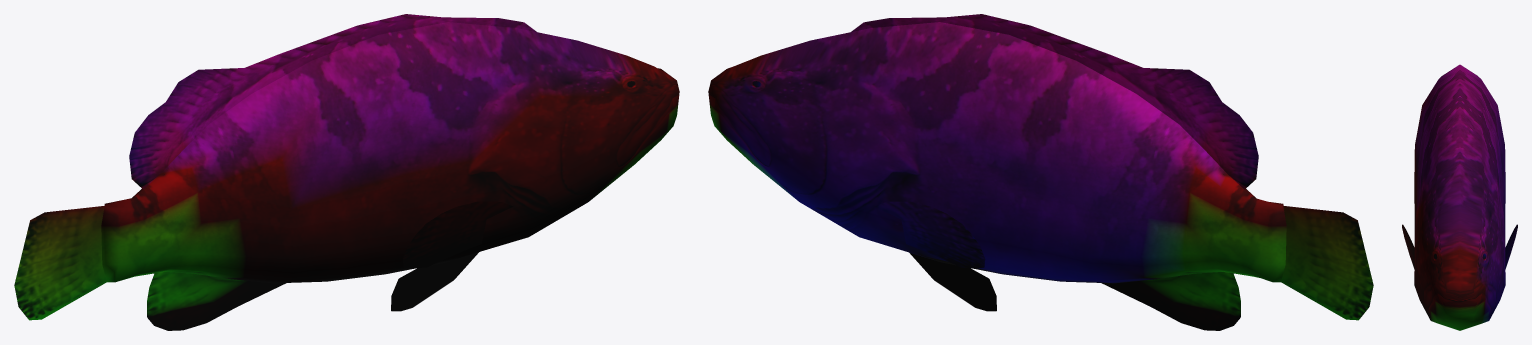
File: goliath_grouper.glb
3 views of the same model, side by side, from view 1: azimuth 30°, elevation 25°; view 2: azimuth 150°, elevation 25°; view 3: azimuth 270°, elevation 25° (orthographic). The views are drawn at different scales.
Visible parts, largest first — view 1: GoliathGrouper; view 2: GoliathGrouper; view 3: GoliathGrouper.
Part boxes in pixels (x1=…): GoliathGrouper: x1=14, y1=14, x2=679, y2=330; GoliathGrouper: x1=708, y1=14, x2=1373, y2=330; GoliathGrouper: x1=1402, y1=64, x2=1517, y2=330.
Bounding box in the file's own units: 1 × 0.4289 × 0.1946.
1 material, 1 textured.
